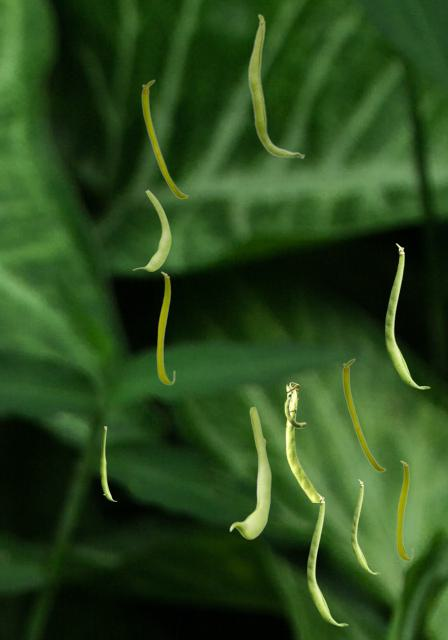french_bean: (247, 13, 304, 158), (385, 243, 429, 388), (141, 79, 187, 198), (229, 406, 270, 538), (307, 493, 347, 625), (342, 358, 385, 471), (284, 382, 318, 501), (132, 189, 170, 270), (351, 479, 379, 573), (156, 271, 174, 384), (396, 460, 412, 560), (100, 426, 116, 500)
